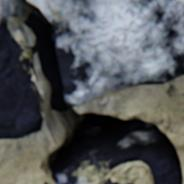brick: (52, 161, 128, 183), (151, 172, 170, 183), (105, 179, 121, 183)
broken_brick: (28, 0, 183, 107), (0, 0, 44, 139)
crack: (1, 0, 183, 183)
